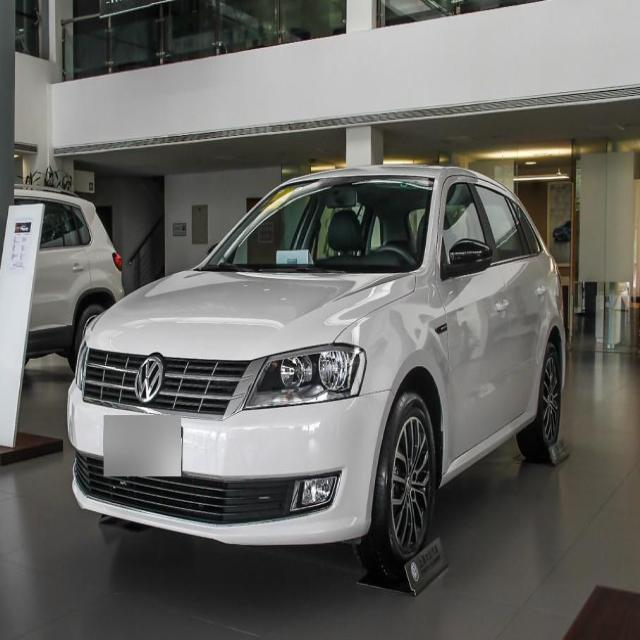door: (474, 181, 552, 423)
front_bumper: (66, 381, 395, 548)
front_glass: (204, 169, 434, 274)
front_left_side_door: (434, 167, 510, 472)
front_left_side_light: (244, 338, 366, 413)
front_left_side_mirror: (446, 236, 492, 278)
wheel: (360, 390, 438, 572), (518, 340, 563, 454)
